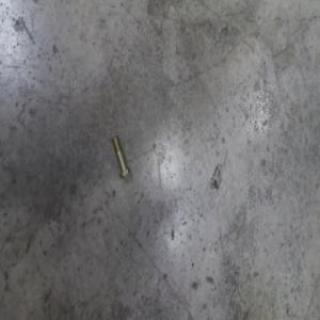Bolttrack_idkeyframe: (110, 136, 130, 181)
